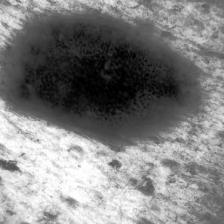Benign Marking or Mole: (9, 20, 194, 136)
